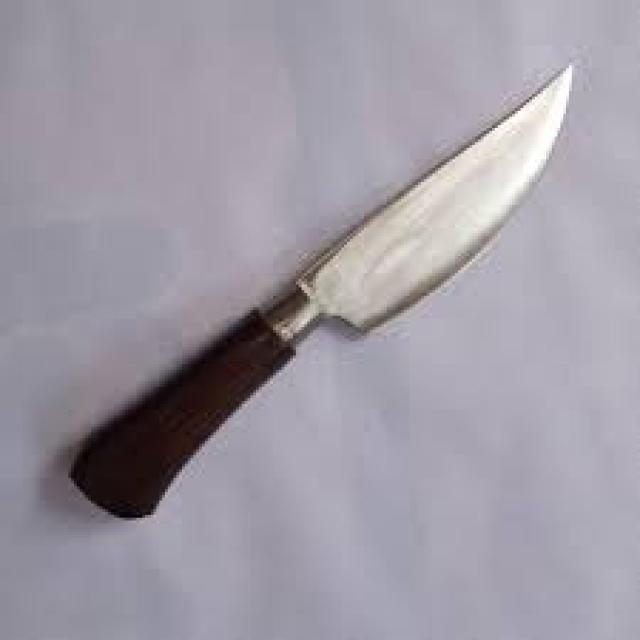Knife: (68, 60, 572, 515)
